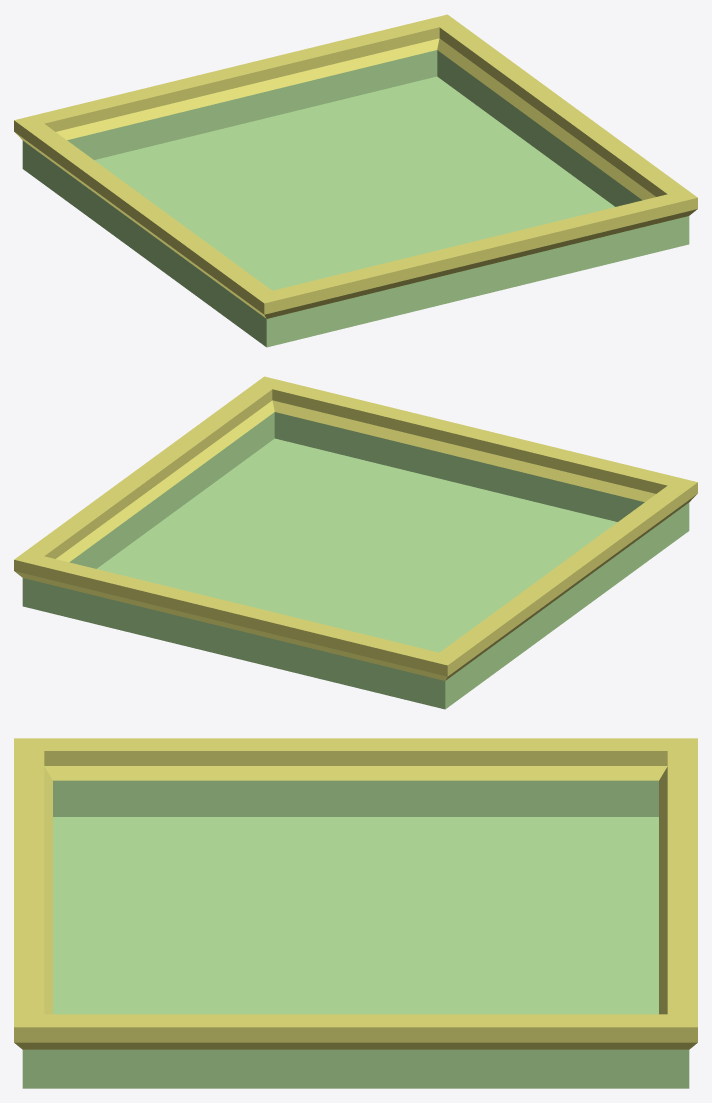
3 views of the same model, one above another, from view 1: azimuth 30°, elevation 25°; view 2: azimuth 150°, elevation 25°; view 3: azimuth 270°, elevation 25° (orthographic). The views are drawn at different scales.
Parts seen in each view (by area): view 1: Cube; view 2: Cube; view 3: Cube.
Boxes of the visible parts, left/top/right/bottom form: Cube: left=14, top=14, right=697, bottom=347; Cube: left=14, top=376, right=697, bottom=709; Cube: left=14, top=738, right=697, bottom=1088.
Size of the model in its own units: 22.58 by 2.37 by 22.58.
